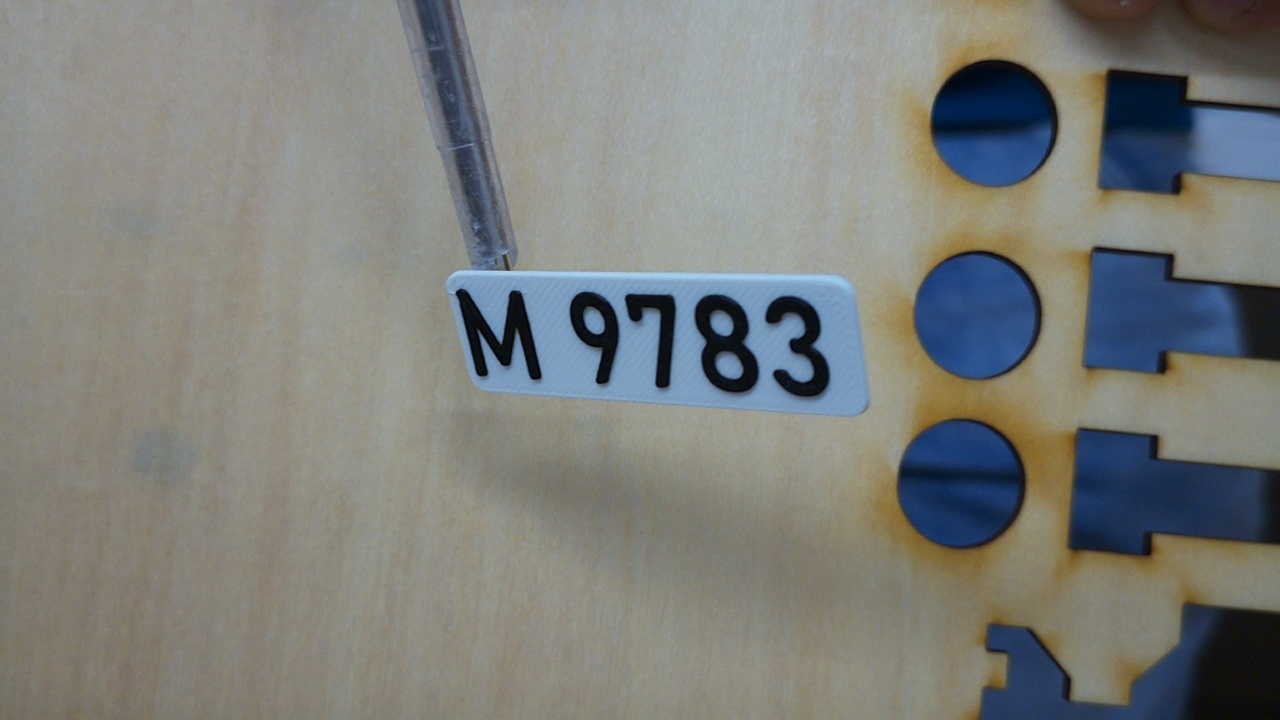license_plate: (444, 268, 873, 420)
